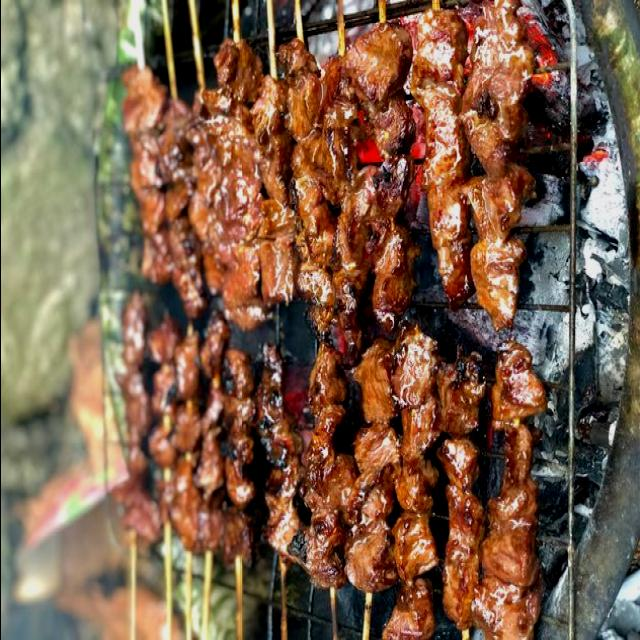sate: (101, 273, 568, 640), (104, 1, 566, 314)
